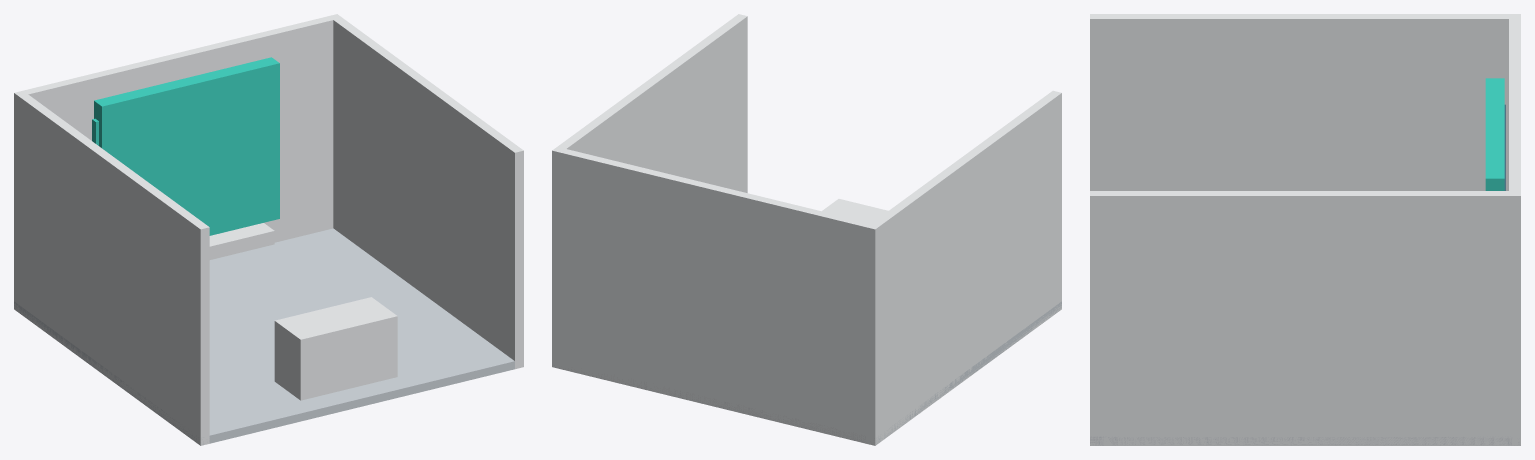
3 views of the same model, side by side, from view 1: azimuth 30°, elevation 25°; view 2: azimuth 150°, elevation 25°; view 3: azimuth 270°, elevation 25° (orthographic). The views are drawn at different scales.
Parts seen in each view (by area): view 1: Exhibition Booth Concept; view 2: Exhibition Booth Concept; view 3: Exhibition Booth Concept.
Part boxes in pixels (bbox=[...]): Exhibition Booth Concept: bbox=[14, 14, 523, 445]; Exhibition Booth Concept: bbox=[552, 14, 1061, 445]; Exhibition Booth Concept: bbox=[1090, 14, 1520, 445].
Bounding box in the file's own units: 5 × 3.2 × 5.
